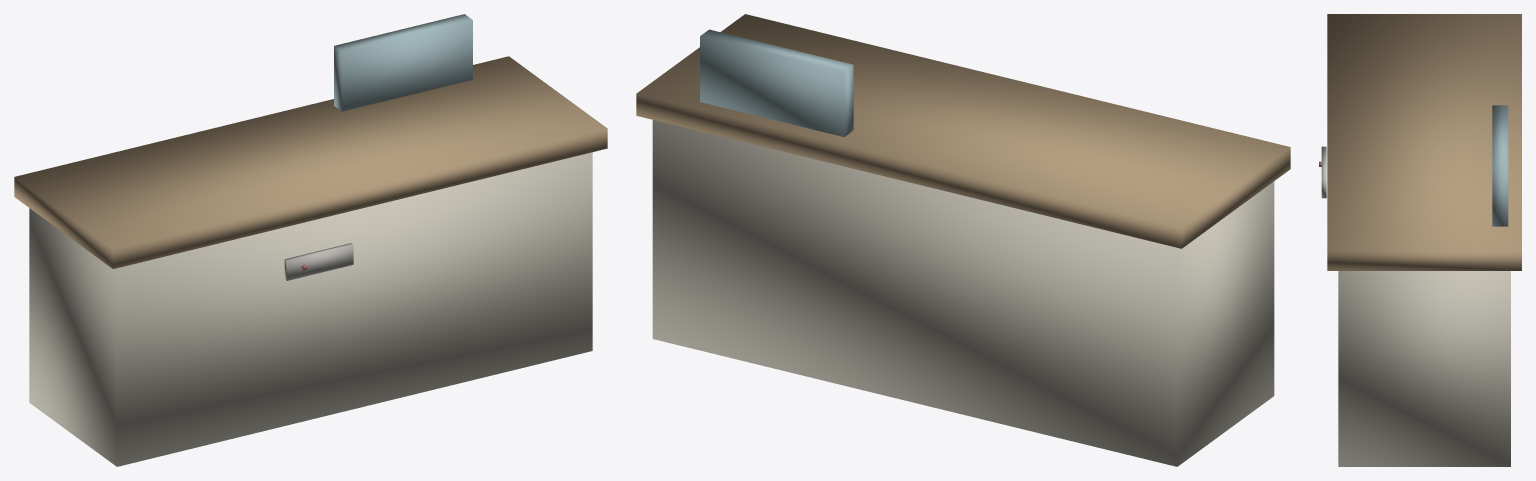
Rendered from post_office_counter.glb.
3 views of the same model, side by side, from view 1: azimuth 30°, elevation 25°; view 2: azimuth 150°, elevation 25°; view 3: azimuth 270°, elevation 25° (orthographic). The views are drawn at different scales.
Parts seen in each view (by area): view 1: world; view 2: world; view 3: world.
Boxes of the visible parts, left/top/right/bottom form: world: left=14, top=14, right=607, bottom=466; world: left=636, top=14, right=1290, bottom=466; world: left=1319, top=14, right=1521, bottom=466.
Size of the model in its own units: 2.08 by 1.14 by 0.751.
